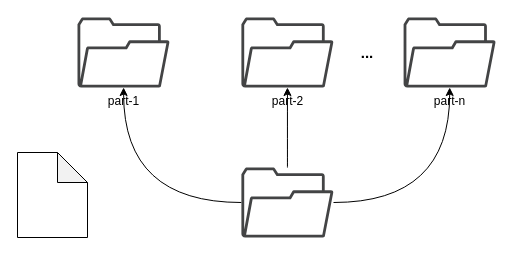
The diagram is 513 pixels wide and 275 high, and some of its shapes have lost their labels. The centre of each missing label's shape, as x and y in pixels:
idx(the Stream only inverted index): (287,202)
snapshot: (52,195)
